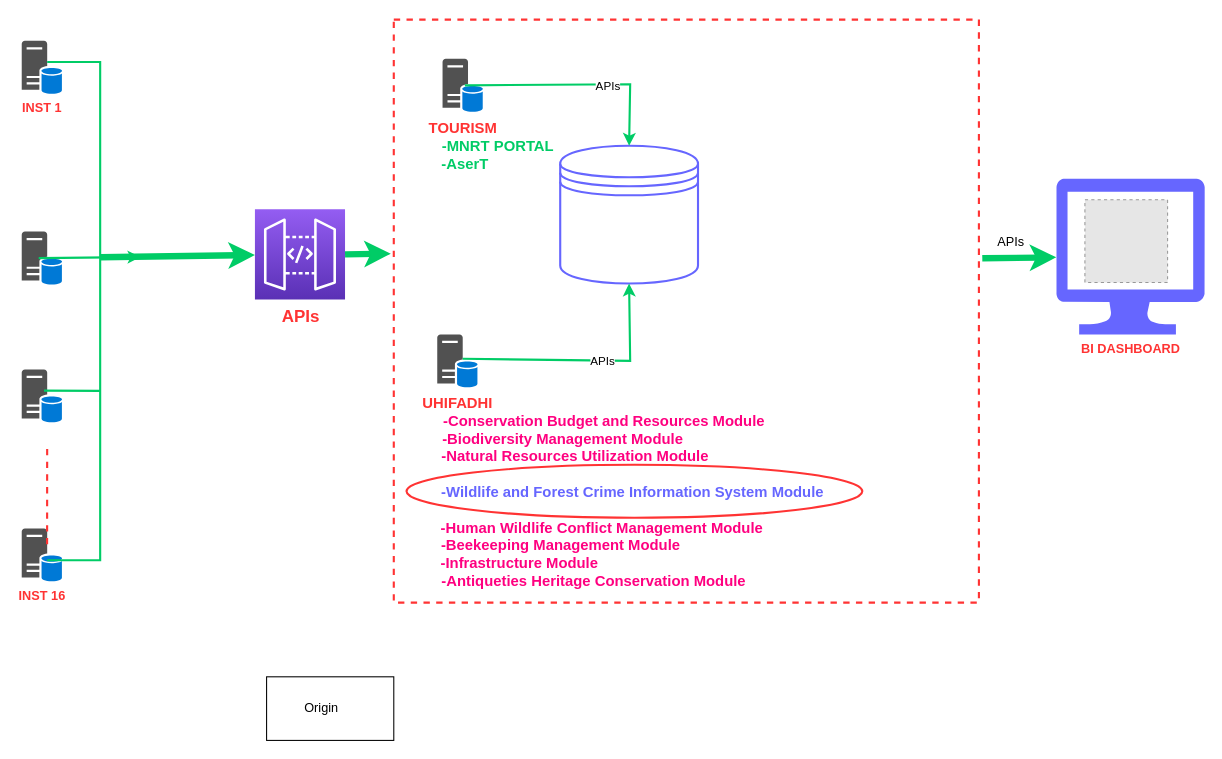
This 1222x759 diagram has some shape labels left out. Grey dashed boxes stand in for pictures. The shapes that lost their labels are listed below. From the top down, each one's centre as x and y in pixels, then its label:
At pixel 629 214: "MNRT DATAWARE HOUSE".
At pixel 41 257: "INST 2".
At pixel 41 395: "INST 3".
